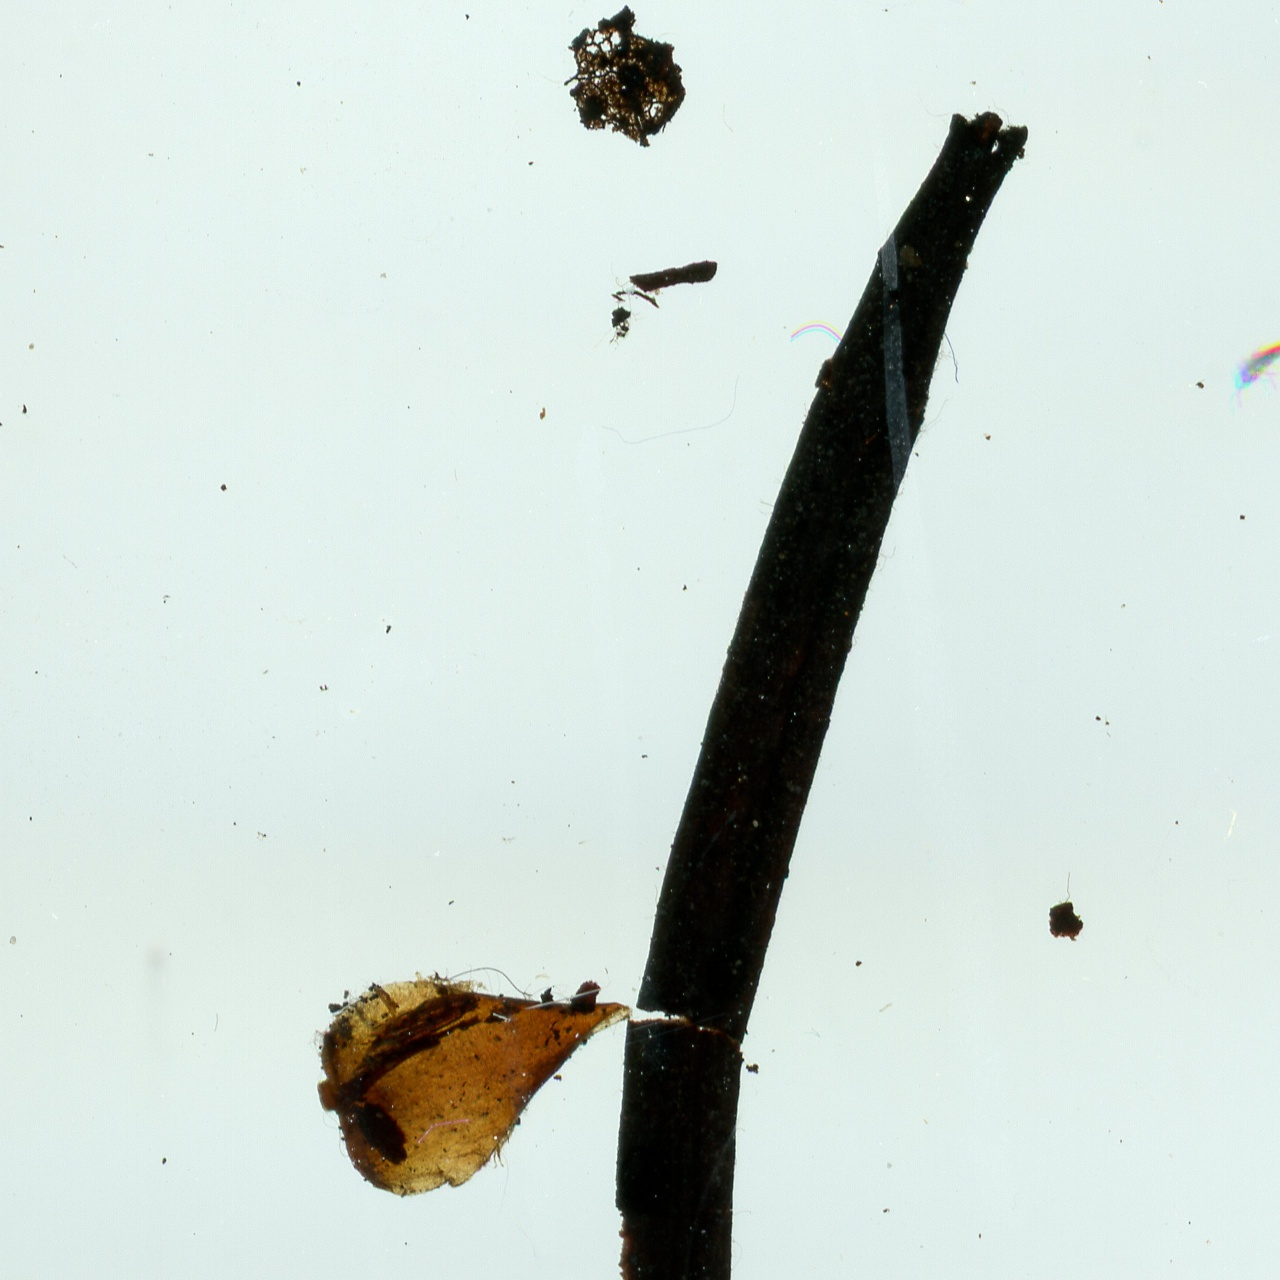arthropod: (1235, 342, 1280, 408)
